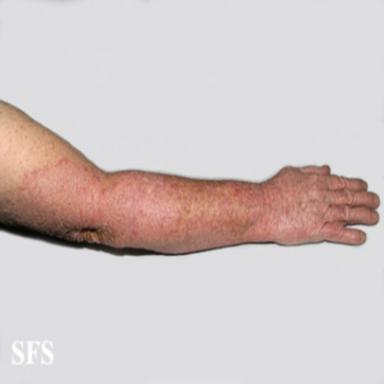Tinea-Corporis: (1, 155, 329, 253)
